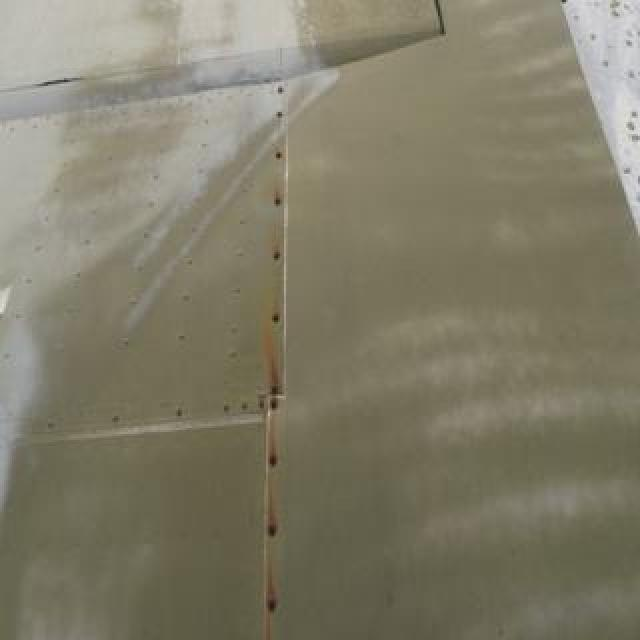dent: (267, 498, 281, 544), (267, 574, 279, 616), (268, 420, 276, 476), (269, 310, 285, 330), (272, 193, 286, 211), (272, 377, 282, 401), (272, 249, 284, 269), (276, 146, 288, 166), (274, 109, 288, 121)
